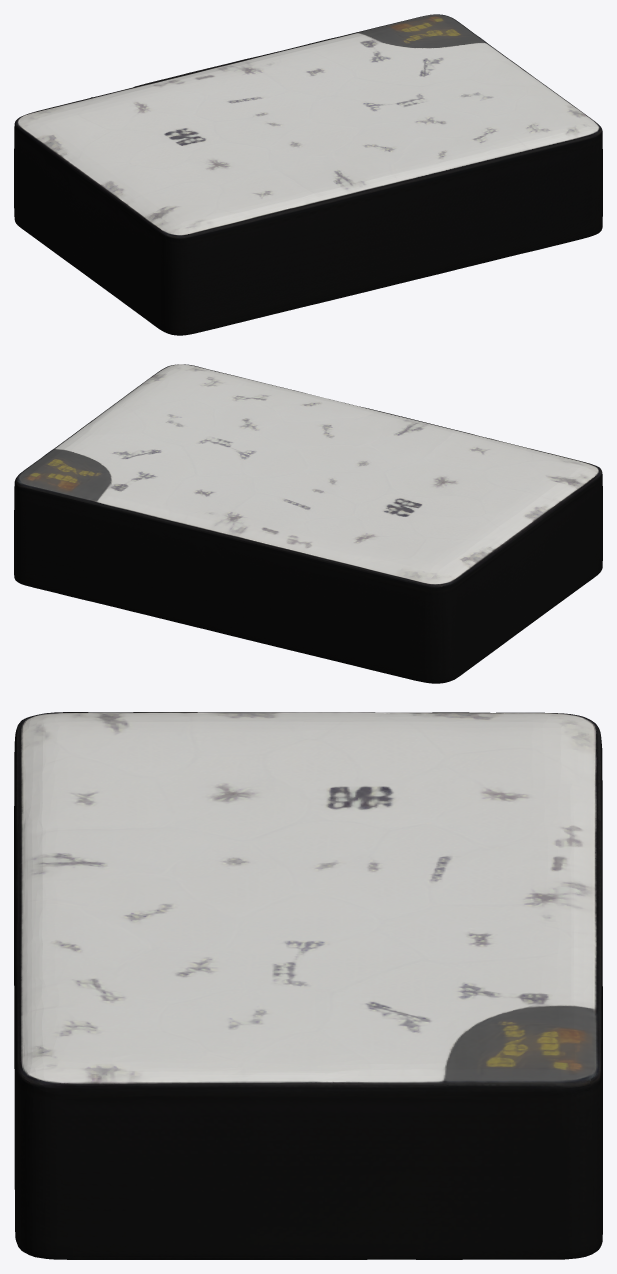
File: bamboo_single_3_star_910_res.glb
3 renders of one model, top to bottom at view 1: azimuth 30°, elevation 25°; view 2: azimuth 150°, elevation 25°; view 3: azimuth 270°, elevation 25°, orthographic. The views are drawn at different scales.
Parts seen in each view (by area): view 1: world; view 2: world; view 3: world.
Boxes of the visible parts, <box> form: world: <box>14,14,602,335</box>; world: <box>14,364,602,683</box>; world: <box>14,712,602,1259</box>.
Bounding box in the file's own units: 1 × 0.2282 × 0.6621.
1 material, 1 textured.
